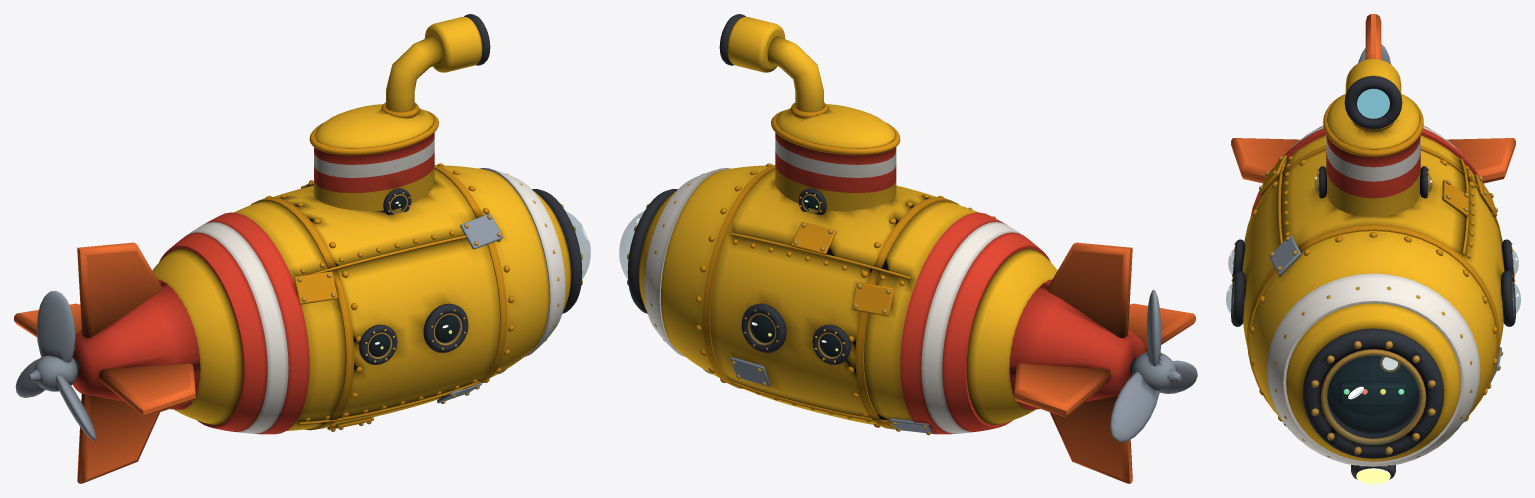
File: player_hull.glb
3 views of the same model, side by side, from view 1: azimuth 30°, elevation 25°; view 2: azimuth 150°, elevation 25°; view 3: azimuth 270°, elevation 25° (orthographic). The views are drawn at different scales.
Parts seen in each view (by area): view 1: hull_body, propeller; view 2: hull_body, propeller; view 3: hull_body.
Boxes of the visible parts, box(x1,y1,x2,y2) form: hull_body: box(14, 14, 590, 483); propeller: box(15, 290, 96, 440); hull_body: box(619, 14, 1195, 483); propeller: box(1110, 290, 1197, 442); hull_body: box(1226, 14, 1520, 483).
Size of the model in its own units: 5.35 by 3.41 by 2.24.
